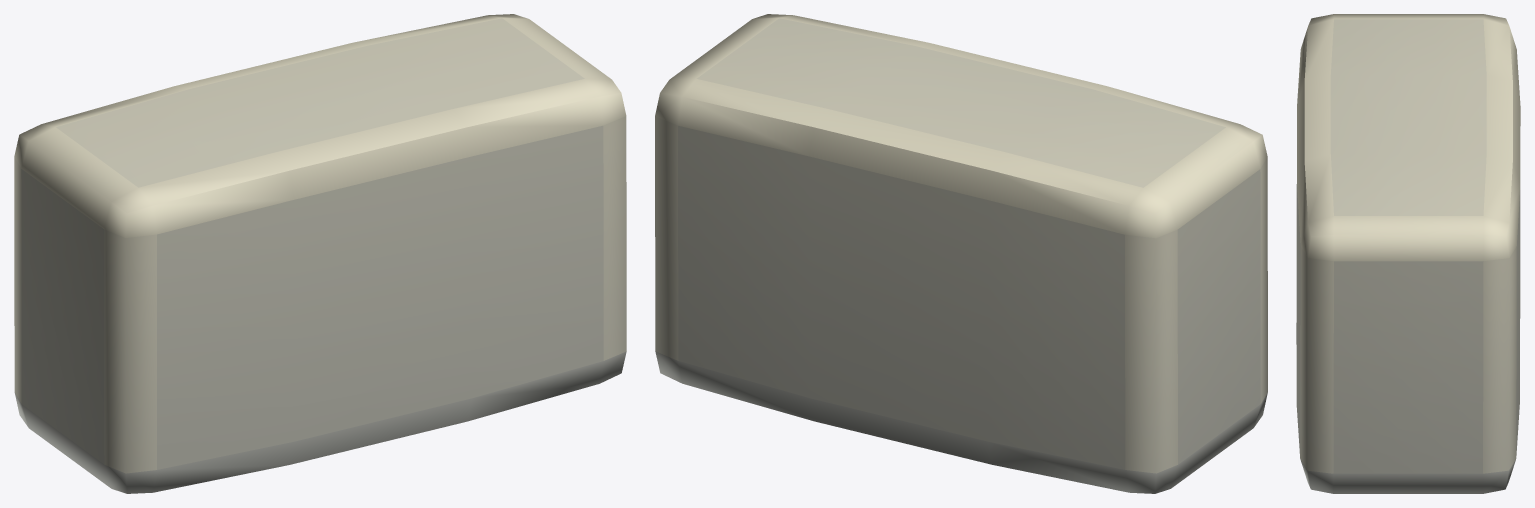
Rendered from curb_stone1_1_LOD_setup.fbx.
3 views of the same model, side by side, from view 1: azimuth 30°, elevation 25°; view 2: azimuth 150°, elevation 25°; view 3: azimuth 270°, elevation 25° (orthographic). The views are drawn at different scales.
Visible parts, largest first — view 1: curb_stone1_1_LOD0; view 2: curb_stone1_1_LOD0; view 3: curb_stone1_1_LOD0.
Boxes of the visible parts, box(x1,y1,x2,y2) form: curb_stone1_1_LOD0: box(14, 14, 626, 493); curb_stone1_1_LOD0: box(655, 14, 1267, 493); curb_stone1_1_LOD0: box(1296, 14, 1520, 493).
Size of what is drawn, in the model's own units: 106 by 60.71 by 44.12.
